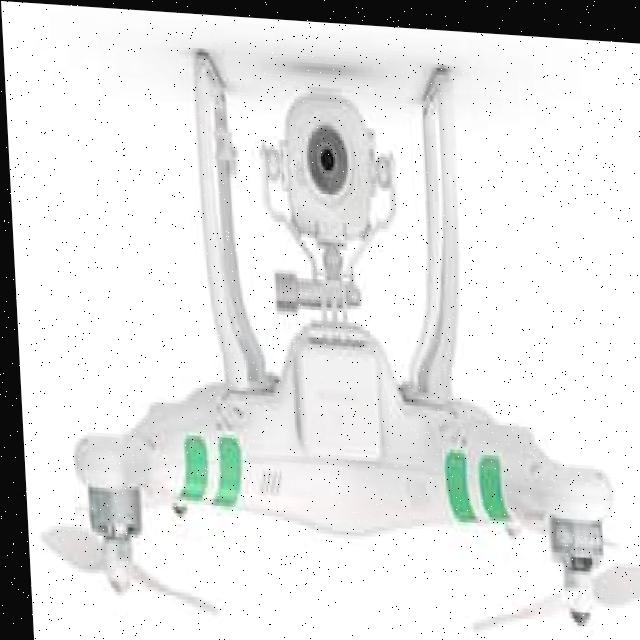drone: (24, 283, 640, 639)
